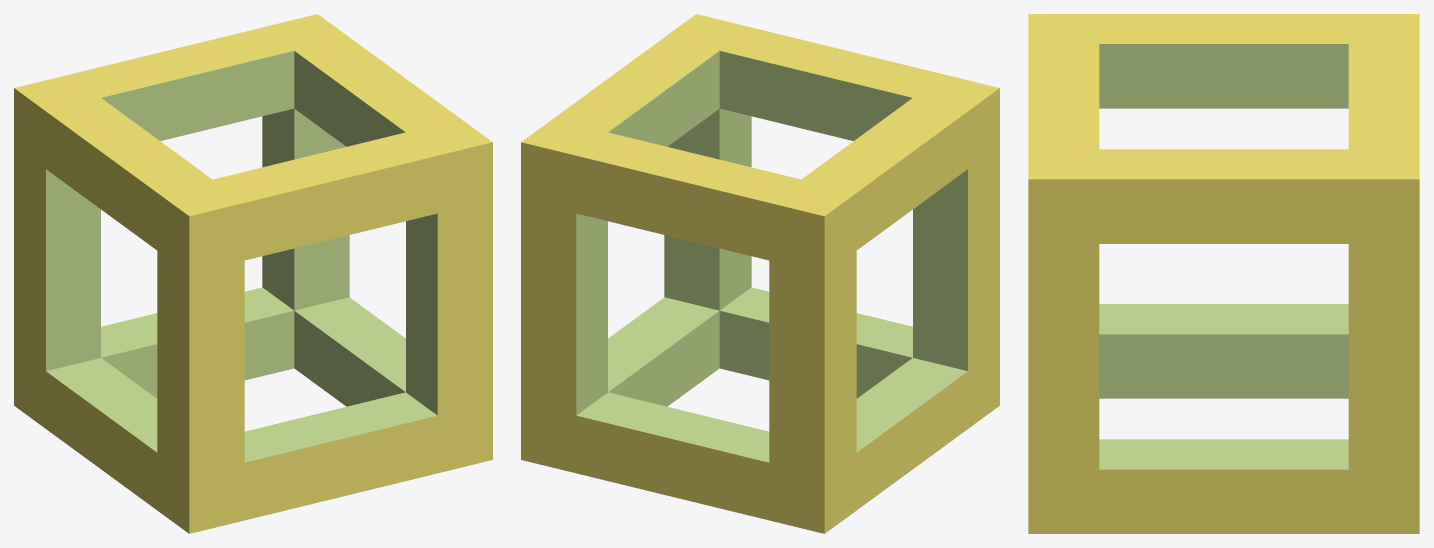
The model's file is frame.glb.
3 views of the same model, side by side, from view 1: azimuth 30°, elevation 25°; view 2: azimuth 150°, elevation 25°; view 3: azimuth 270°, elevation 25° (orthographic). The views are drawn at different scales.
Size of the model in its own units: 22 by 22 by 22.
